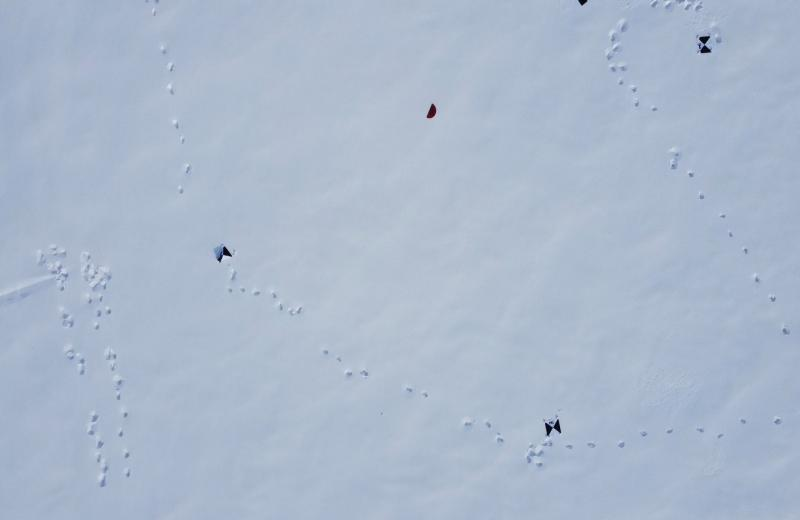Semi Circle: (426, 102, 437, 120)
Square: (578, 0, 588, 7)
